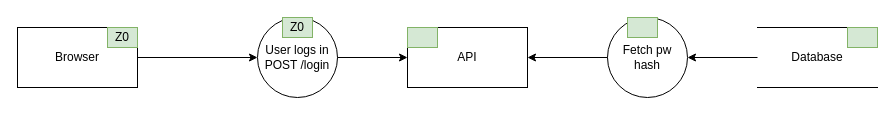
The diagram is 895 pixels wide and 115 high, and some of its shapes have lost their labels. The centre of each missing label's shape, as x and y in pixels:
Z1: (x=422, y=37)
Z2: (x=642, y=27)
Z9: (x=862, y=37)
